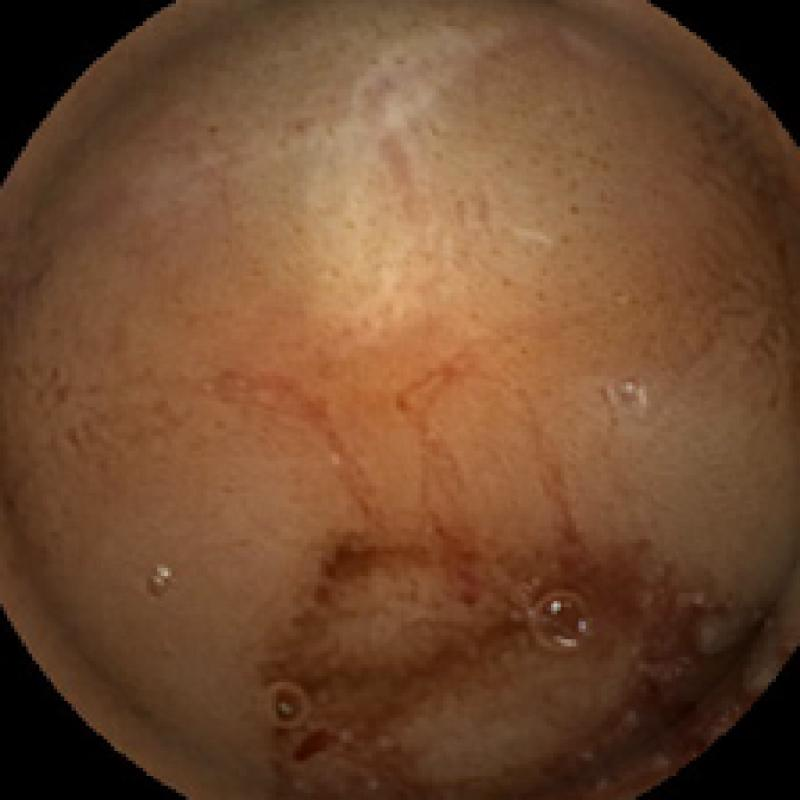bleeding: (539, 560, 761, 786), (286, 719, 334, 767)
